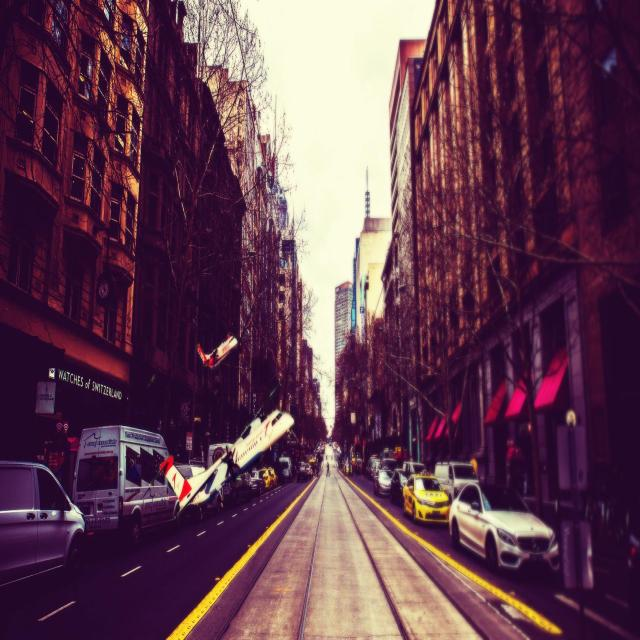airplane: (158, 407, 294, 522), (196, 332, 238, 370)
